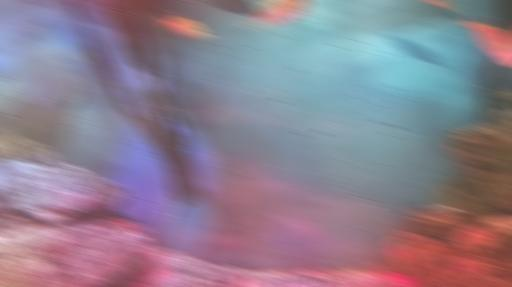Fish: (382, 34, 455, 70), (242, 0, 308, 29), (463, 20, 511, 53), (160, 11, 213, 38), (214, 0, 263, 17), (392, 246, 411, 273), (392, 274, 416, 286), (375, 270, 392, 286), (427, 0, 451, 8), (238, 274, 250, 286), (34, 0, 39, 5), (267, 0, 271, 3), (269, 0, 272, 3)
